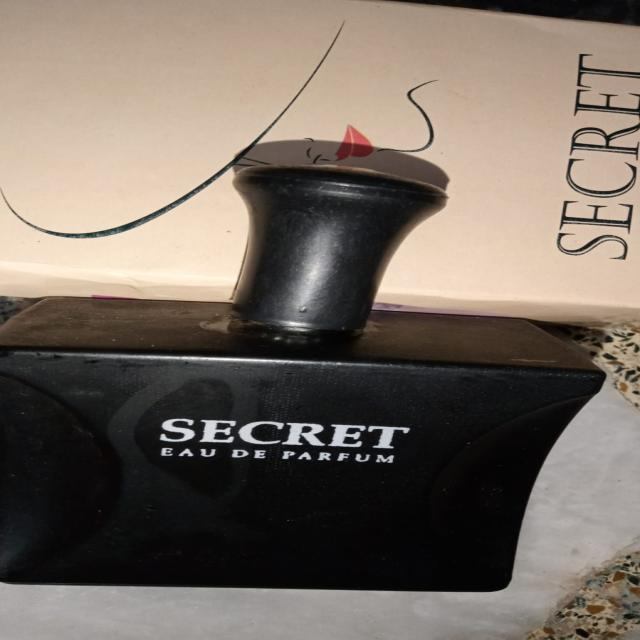perfume: (0, 130, 620, 606)
